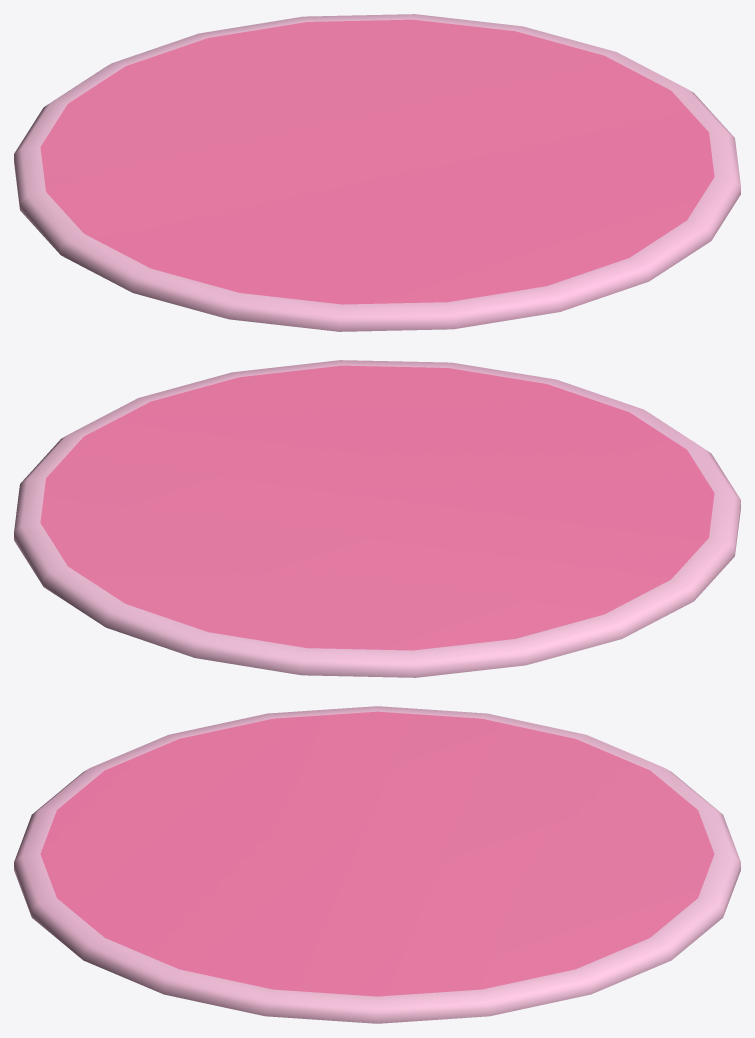
Rendered from carpet1.fbx.
The picture shows the model from 3 angles, top to bottom: view 1: azimuth 30°, elevation 25°; view 2: azimuth 150°, elevation 25°; view 3: azimuth 270°, elevation 25°; orthographic projection.
Visible parts, largest first — view 1: carpet1; view 2: carpet1; view 3: carpet1.
Part boxes in pixels (x1=…): carpet1: x1=14, y1=14, x2=740, y2=331; carpet1: x1=14, y1=360, x2=740, y2=677; carpet1: x1=14, y1=706, x2=740, y2=1023.
Bounding box in the file's own units: 8.37 × 0.2045 × 8.37.
